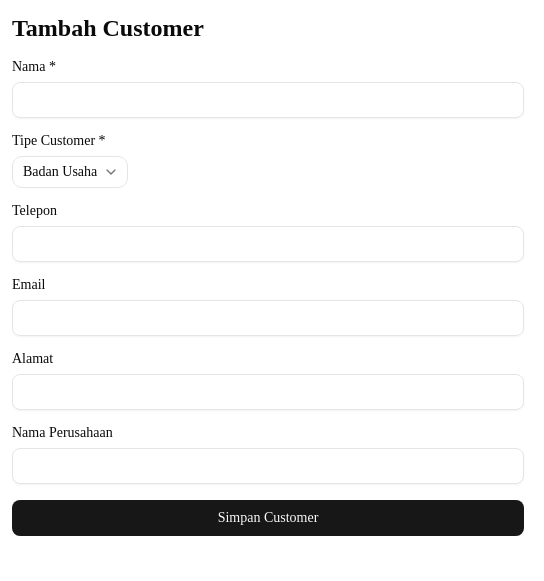
Test: CreateCustomerPage › shows a Zod validation error instead of submitting when name is empty
Click the button "Simpan Customer" at (268, 518), box x1=12 y1=500 x2=524 y2=536
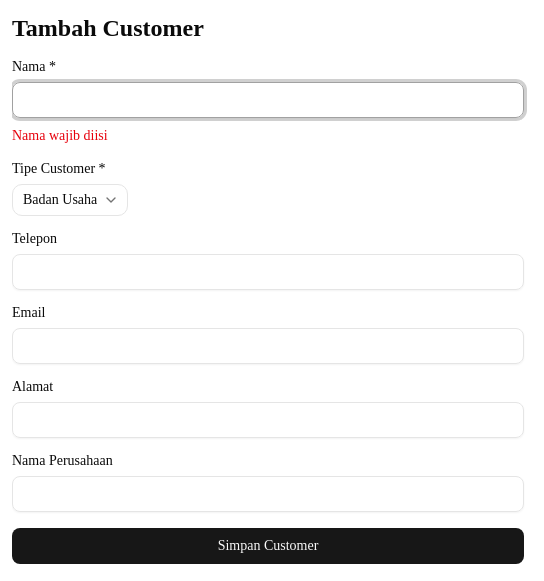
Now the text "Nama wajib diisi" is shown, box x1=12 y1=128 x2=108 y2=143
